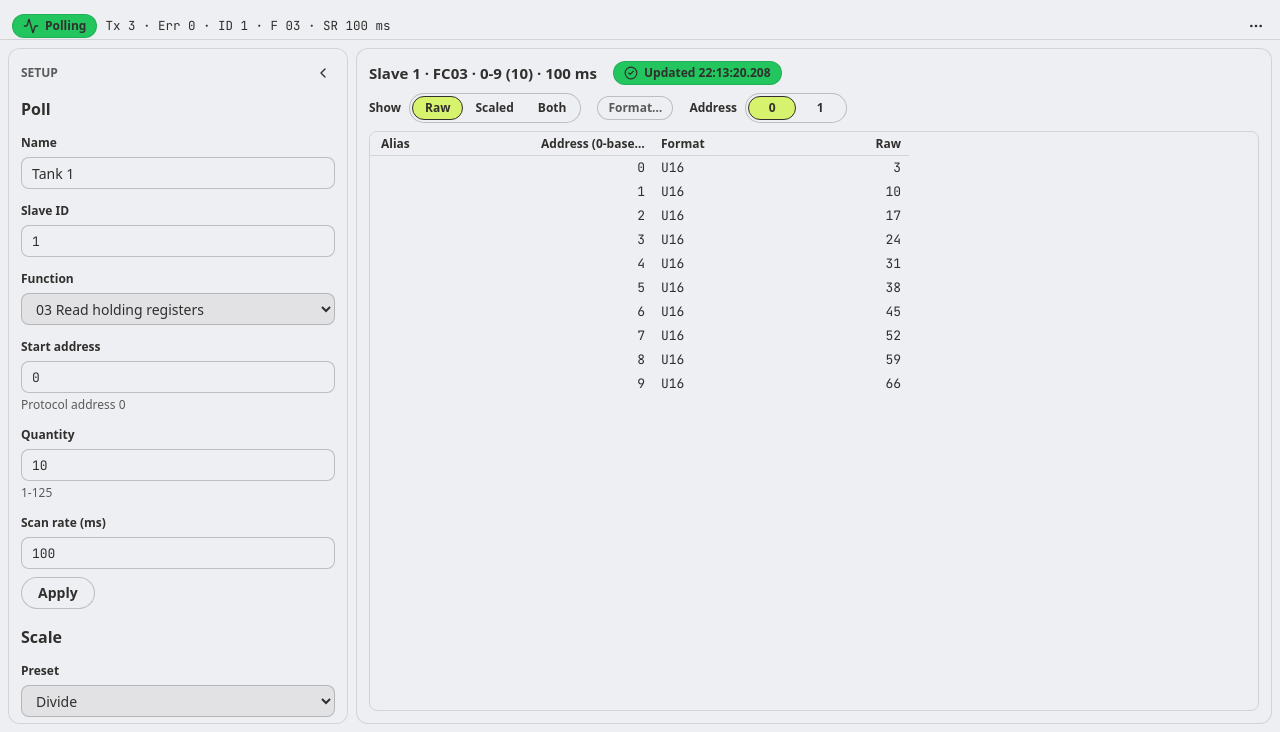
Test case: PollView in the native host › Show, format and base controls › with a scale the Show control is enabled and changes the columns
Click the radio button labelled "Both": [552, 108] box [526,96,578,120]
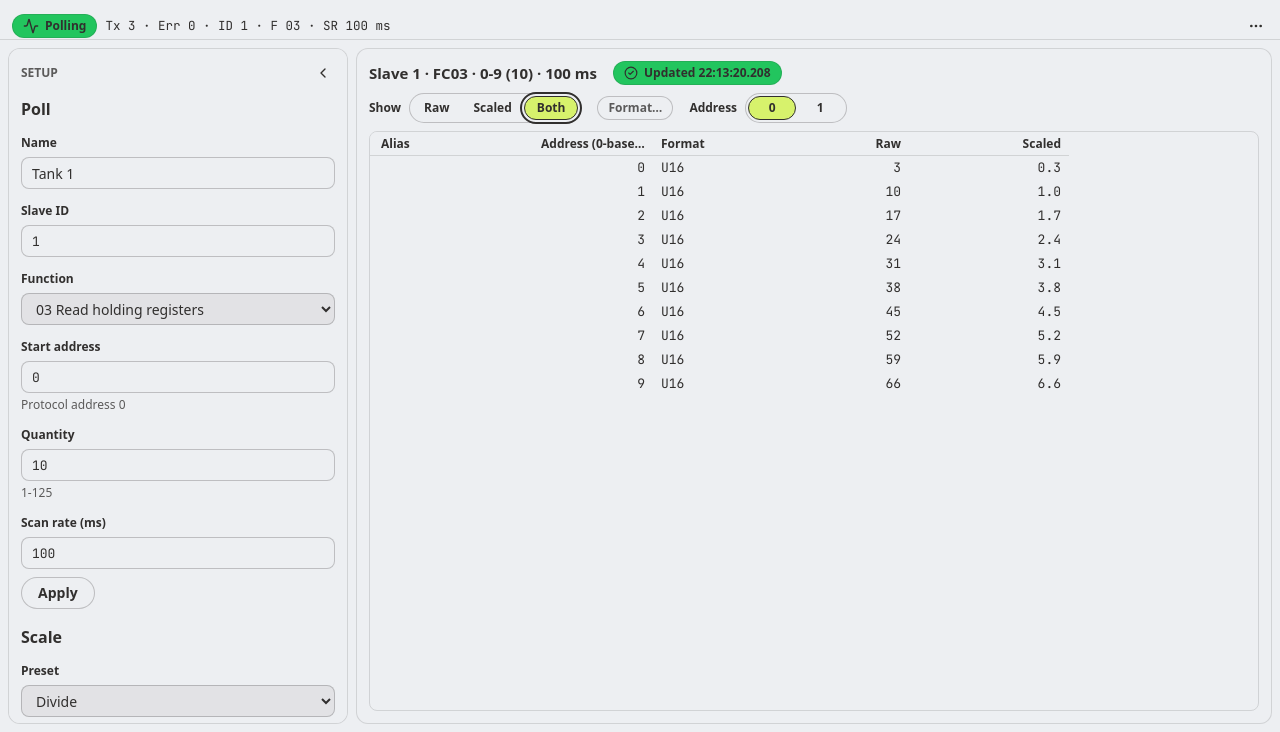
Now the column heading named "Scaled value" is shown, box [1023,135,1061,152]
